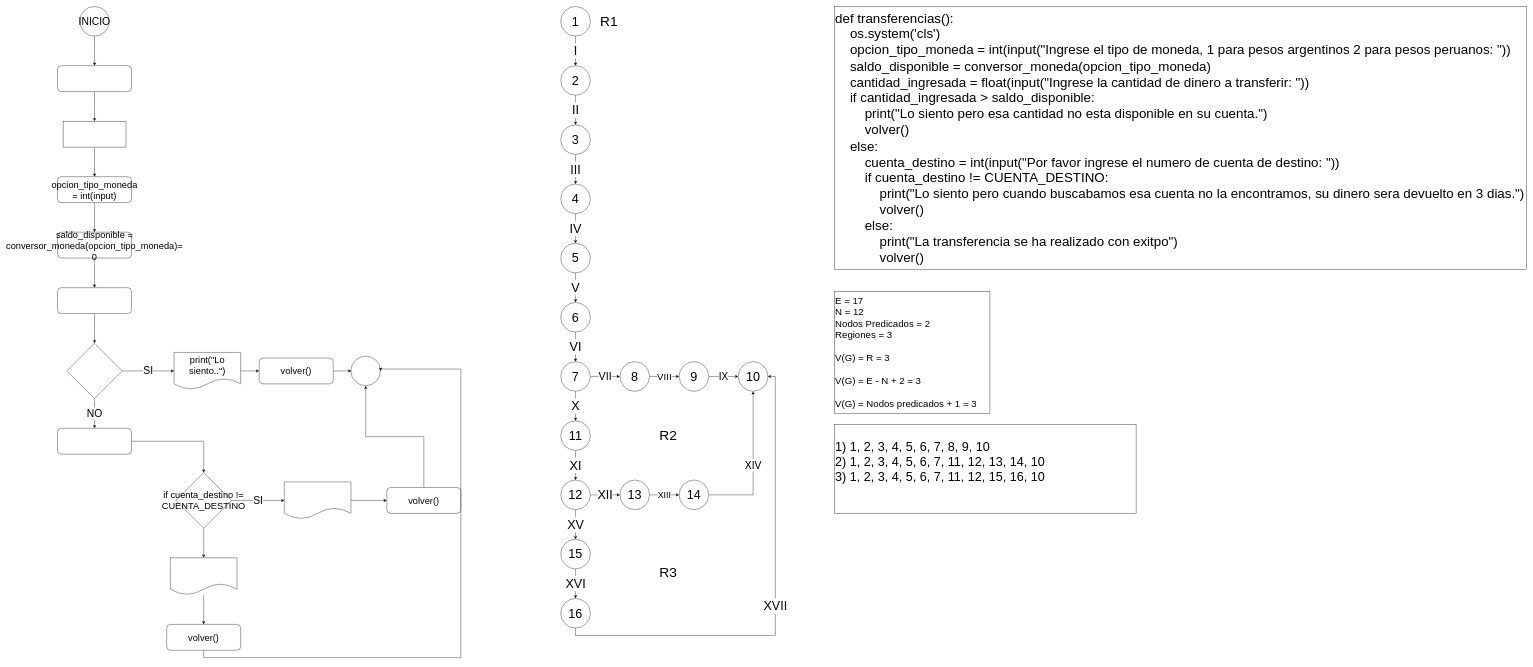
Image size: 1533x667. Some labels were removed from this diagram. Each missing label, with the centre of its shape:
cantidad_ingresada = float(input): [94,300]
cuenta_destino = int(input: [94,441]
def transferencia(): [94,78]
FIN: [366,371]
if cantidad_ingresada > saldo_disponible:: [94,371]
os.system('cls'): [94,134]
print("exito.."): [203,576]
print("lo siento .."): [317,500]
